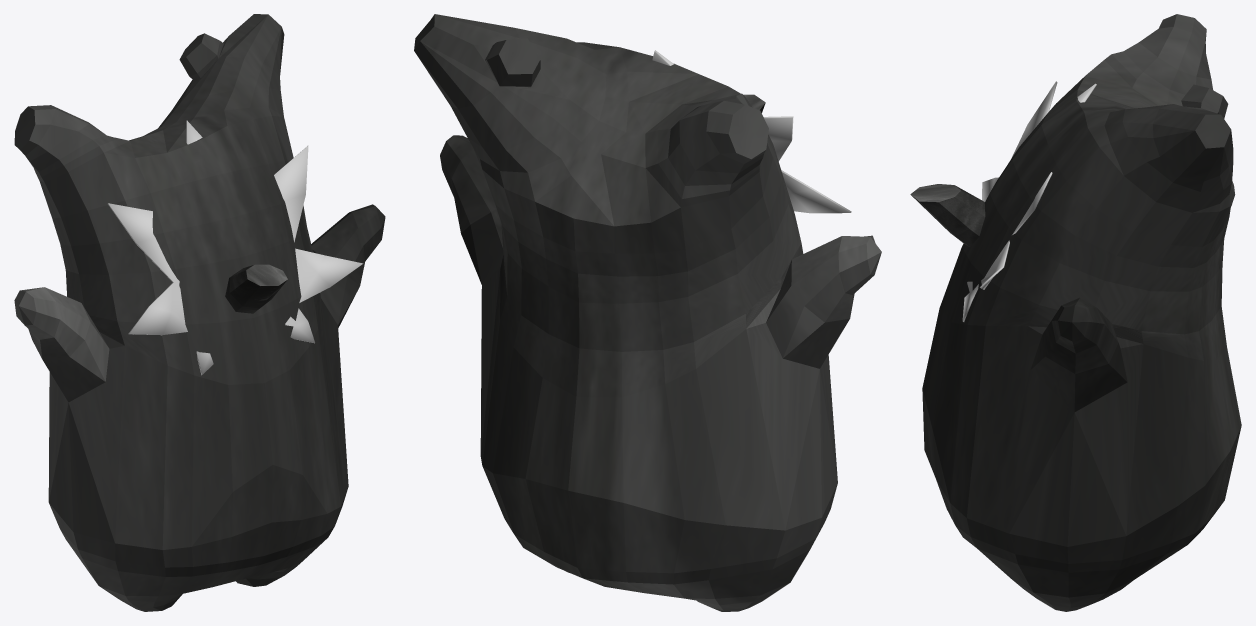
File: frame_0013.obj
3 views of the same model, side by side, from view 1: azimuth 30°, elevation 25°; view 2: azimuth 150°, elevation 25°; view 3: azimuth 270°, elevation 25° (orthographic). The views are drawn at different scales.
Visible parts, largest first — view 1: korok, leaf.003_柱体.013, nose.003_柱体.011; view 2: korok, leaf.003_柱体.013; view 3: korok, nose.003_柱体.011, leaf.003_柱体.013.
Boxes of the visible parts, x1,y1,x2,y2 form: korok: (14,14,385,611); leaf.003_柱体.013: (107,120,363,375); nose.003_柱体.011: (225,264,287,313); korok: (414,14,881,611); leaf.003_柱体.013: (652,50,851,213); korok: (922,14,1241,611); nose.003_柱体.011: (910,184,985,247); leaf.003_柱体.013: (962,81,1096,321).
Size of the model in its own units: 1.63 by 2.14 by 1.2.
